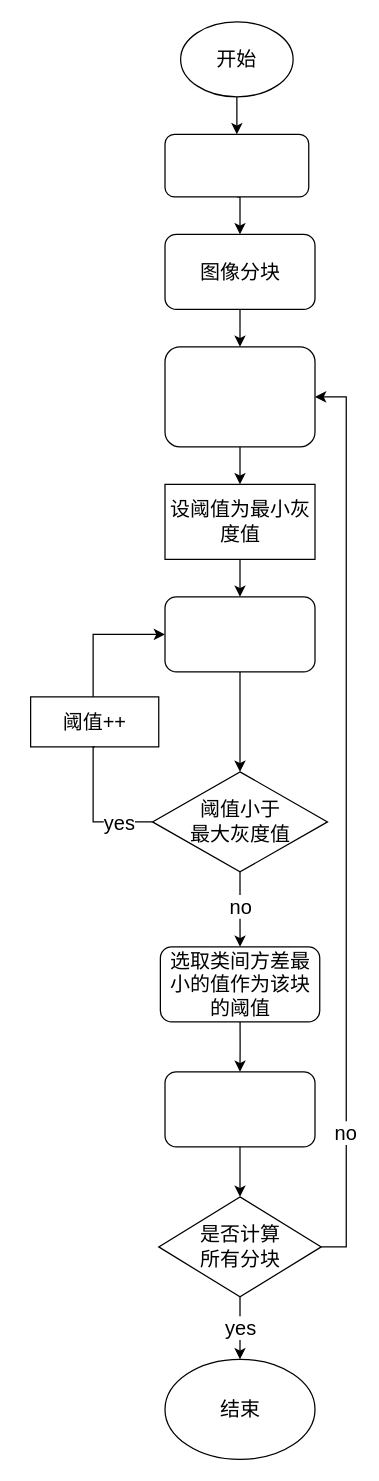
The diagram is 379 pixels wide and 1481 high, and some of its shapes have lost their labels. The centre of each missing label's shape, as x and y in pixels:
"均值滤波" belongs at [236,165].
"根据阈值分类" belongs at [239,1109].
"计算类间方差" belongs at [239,634].
"选取一个分块 计算灰度直方图" belongs at [239,396].
